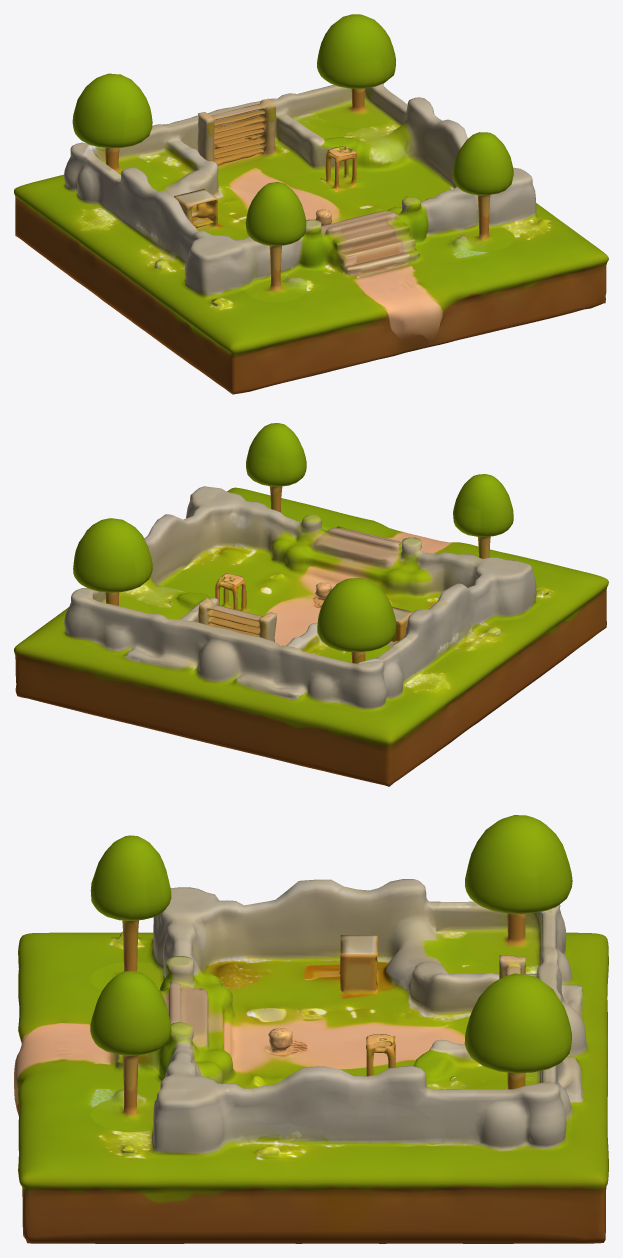
The model's file is clean-battle-arena.glb.
3 views of the same model, one above another, from view 1: azimuth 30°, elevation 25°; view 2: azimuth 150°, elevation 25°; view 3: azimuth 270°, elevation 25° (orthographic). The views are drawn at different scales.
Parts seen in each view (by area): view 1: model; view 2: model; view 3: model.
Part boxes in pixels (x1,y1,x2,y2): model: (14, 14, 608, 394); model: (14, 423, 608, 786); model: (14, 815, 608, 1243).
Size of the model in its own units: 1.86 by 0.7897 by 1.89.
1 material, 1 textured.
